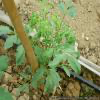Tomato leaf: (68, 55, 81, 76), (51, 50, 67, 65), (34, 44, 46, 64), (44, 74, 55, 94), (15, 44, 25, 65), (32, 67, 44, 83), (4, 34, 16, 50), (50, 71, 61, 87), (1, 23, 12, 37), (57, 0, 67, 15), (67, 6, 77, 18), (62, 65, 71, 77), (19, 71, 31, 80), (60, 43, 69, 50)
